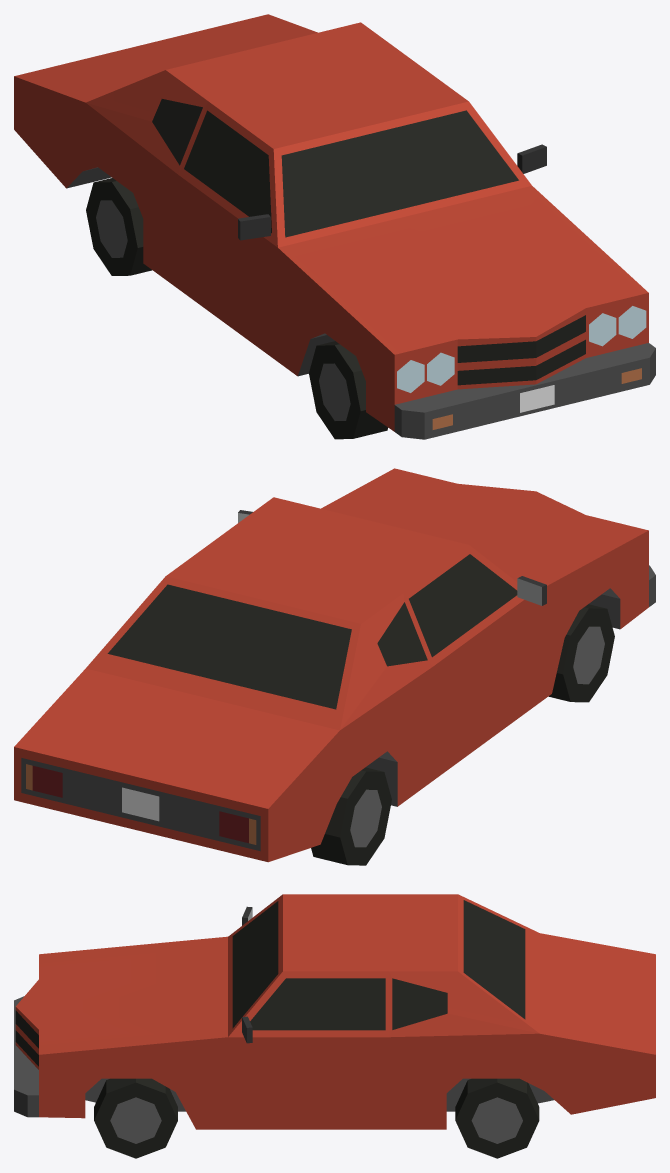
Rendered from Veh_Muscle_Car_02_Red.glb.
The picture shows the model from 3 angles, top to bottom: view 1: azimuth 30°, elevation 25°; view 2: azimuth 150°, elevation 25°; view 3: azimuth 270°, elevation 25°; orthographic projection. The views are drawn at different scales.
Visible parts, largest first — view 1: Muscle_Car_02_Red, Wheel_FR, Wheel_RR; view 2: Muscle_Car_02_Red, Wheel_RR, Wheel_FR; view 3: Muscle_Car_02_Red, Wheel_RL, Wheel_FL.
Boxes of the visible parts, box(x1,y1,x2,y2) form: Muscle_Car_02_Red: box(14, 14, 655, 439); Wheel_FR: box(309, 341, 387, 439); Wheel_RR: box(86, 178, 151, 275); Muscle_Car_02_Red: box(14, 468, 655, 862); Wheel_RR: box(311, 767, 391, 865); Wheel_FR: box(548, 604, 614, 702); Muscle_Car_02_Red: box(14, 894, 655, 1129); Wheel_RL: box(455, 1078, 539, 1158); Wheel_FL: box(94, 1078, 177, 1158).
Size of the model in its own units: 1.18 by 0.8001 by 2.65.
Materials: 1 (1 with a texture image).
